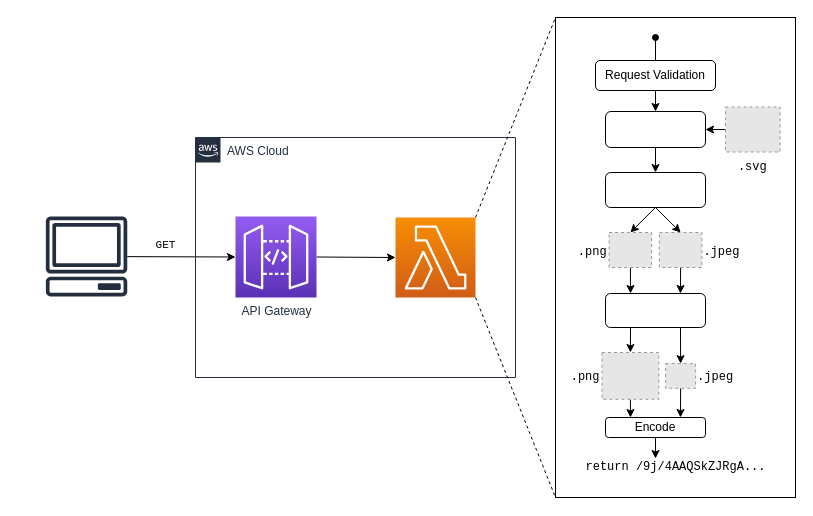
This 813x516 diagram has some shape labels left out. Grey dashed boxes stand in for pictures. The shapes that lost their labels are listed below. From the top down, each one's centre as x and y in pixels, then its label:
point (655, 129): Download SVG Source
point (655, 190): Convert Image
point (86, 256): https://downloademoji.dev
point (435, 257): Lambda
point (655, 310): Resize Image
